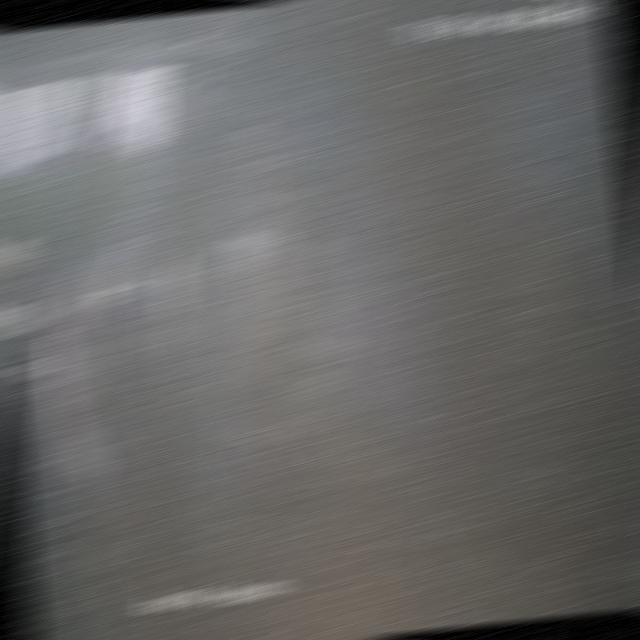cement_mixer_truck: (42, 208, 344, 527)
